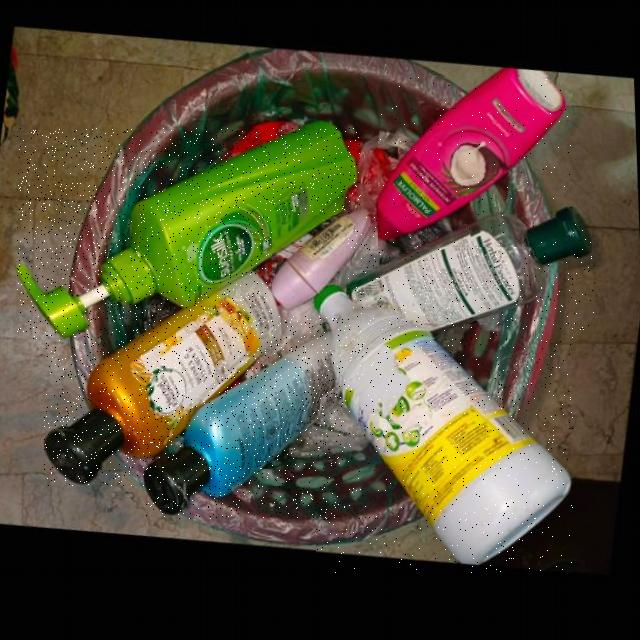plastic: (17, 128, 361, 340), (317, 290, 573, 572), (45, 276, 284, 486), (145, 337, 343, 519), (379, 77, 571, 247), (348, 216, 595, 339), (272, 215, 374, 315)
